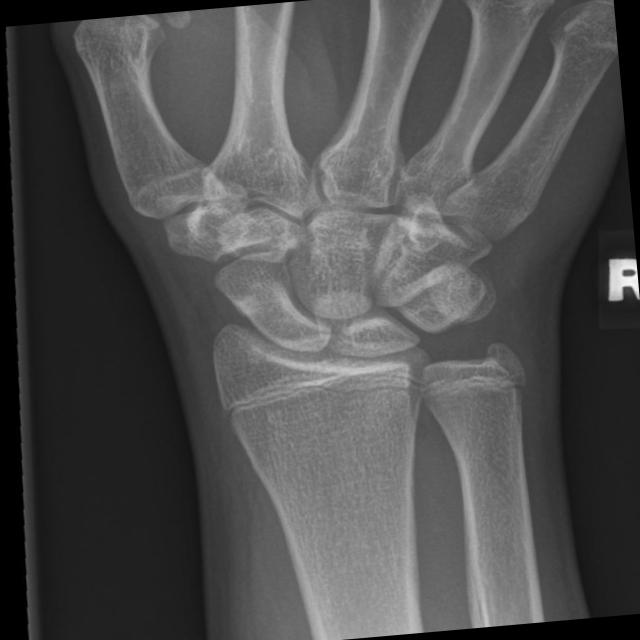fracture: (209, 350, 437, 440), (416, 354, 545, 412)
